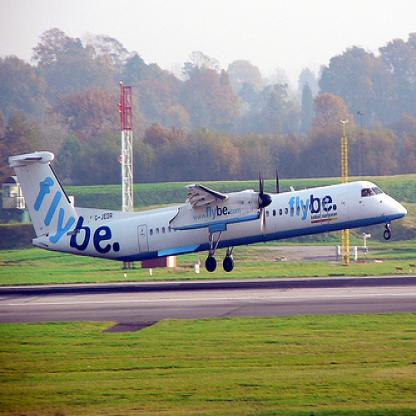aeroplane: (8, 150, 407, 272)
